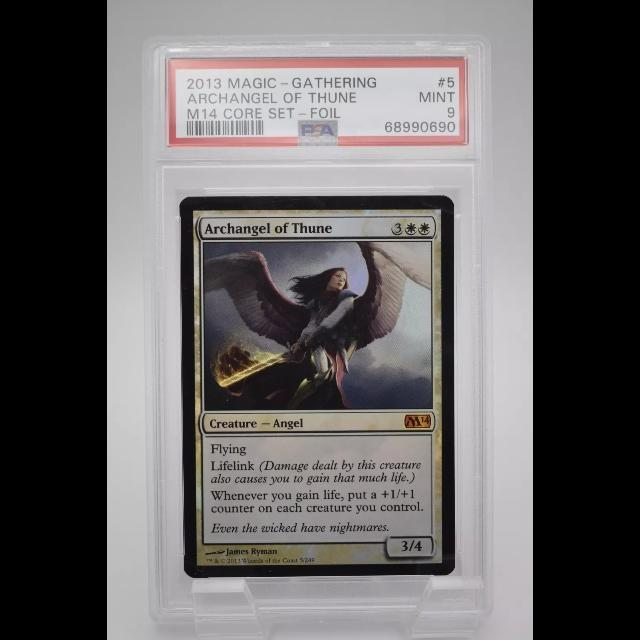card: (180, 195, 456, 580)
psa_label: (168, 58, 467, 146)
psa_slab: (145, 35, 495, 624)
